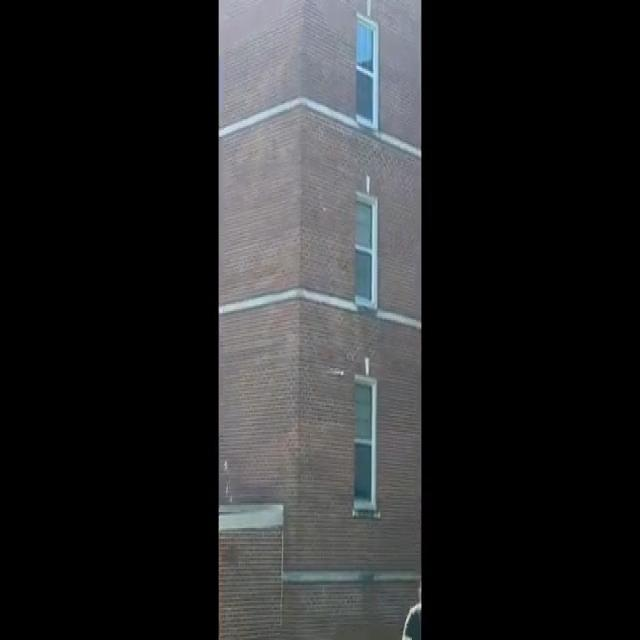drone: (322, 356, 348, 383)
